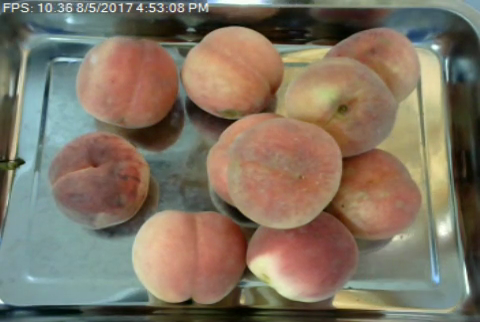Peach: (226, 119, 342, 229), (279, 54, 400, 156), (133, 209, 248, 305), (244, 214, 360, 303), (49, 130, 153, 227), (180, 25, 286, 119), (78, 36, 181, 127), (326, 144, 419, 239), (318, 24, 420, 109)
